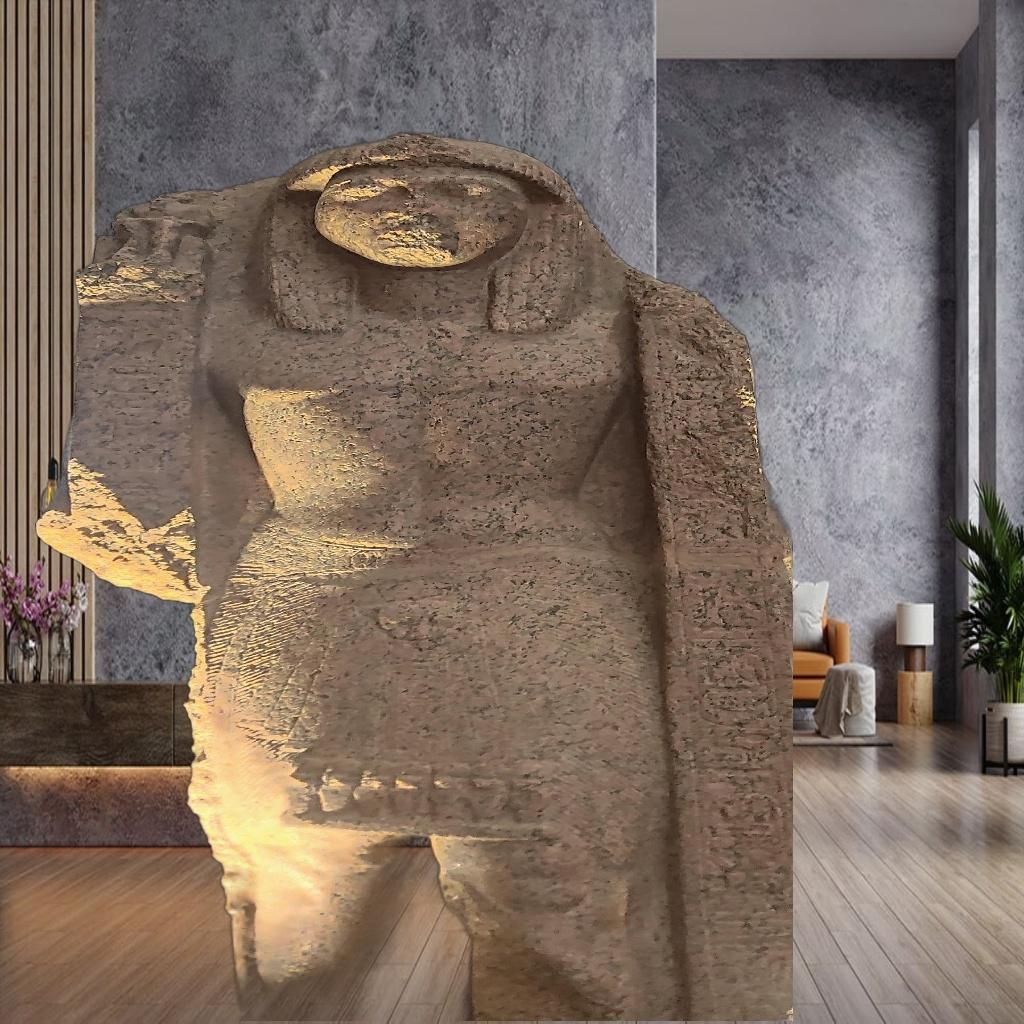Statue of Merenptah as standard Bearer: (36, 129, 794, 1021)
